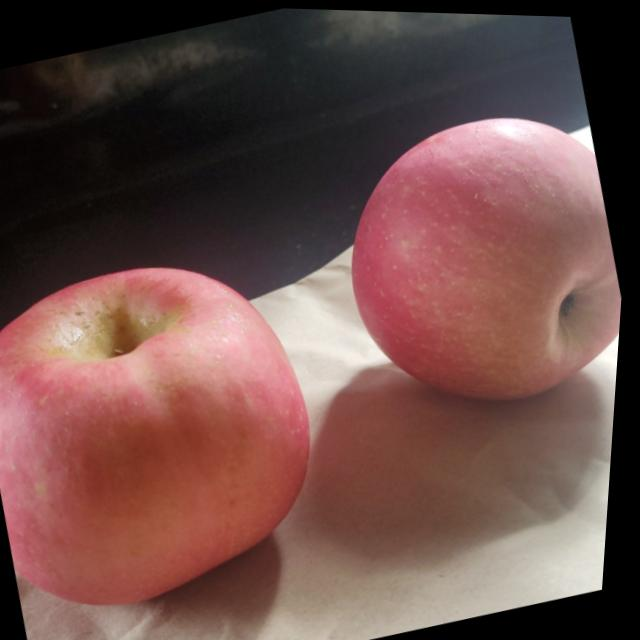apple: (0, 234, 358, 640), (320, 87, 636, 429)
